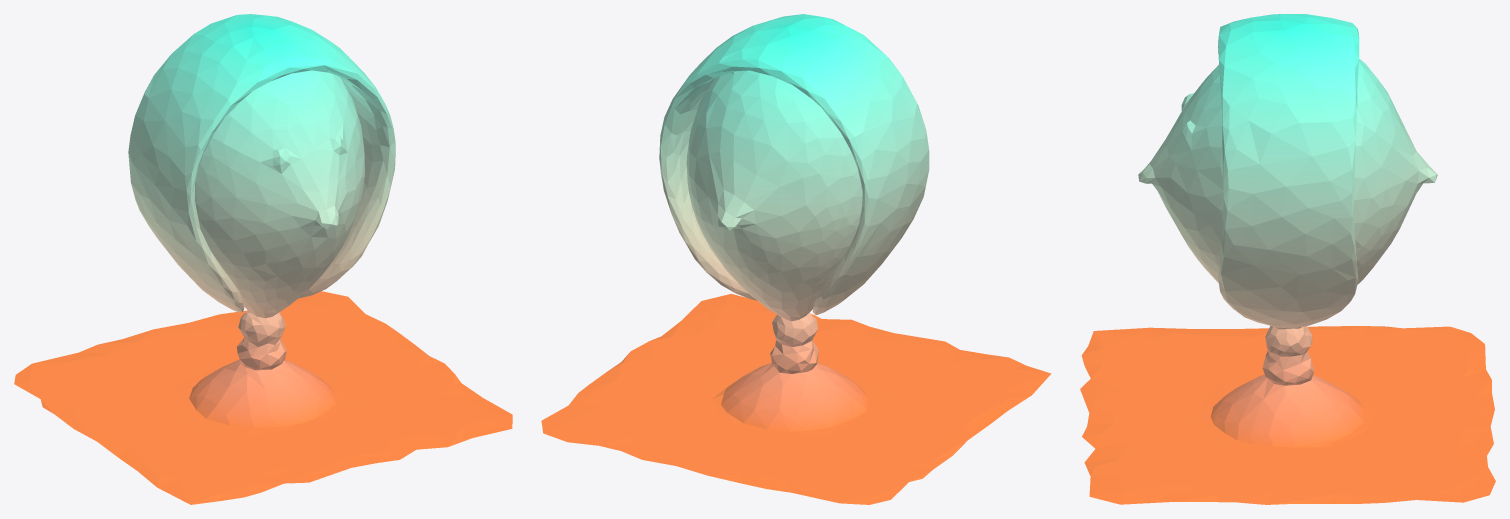
The model's file is 73_cyb_laser_gradient_fish_scales_2886_2026_10_03_59beb3.glb.
The picture shows the model from 3 angles, left to right: view 1: azimuth 30°, elevation 25°; view 2: azimuth 150°, elevation 25°; view 3: azimuth 270°, elevation 25°; orthographic projection. The views are drawn at different scales.
Parts seen in each view (by area): view 1: geometry_0; view 2: geometry_0; view 3: geometry_0.
Boxes of the visible parts, x1,y1,x2,y2 form: geometry_0: [14, 14, 512, 504]; geometry_0: [541, 14, 1051, 504]; geometry_0: [1080, 14, 1495, 504].
Bounding box in the file's own units: 0.9849 × 1 × 0.9666.
